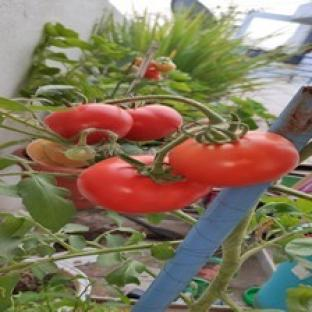Tomato: (77, 158, 210, 213), (169, 131, 299, 186), (45, 104, 133, 144), (124, 105, 182, 140), (27, 140, 94, 168), (156, 58, 175, 72), (144, 66, 161, 80)
